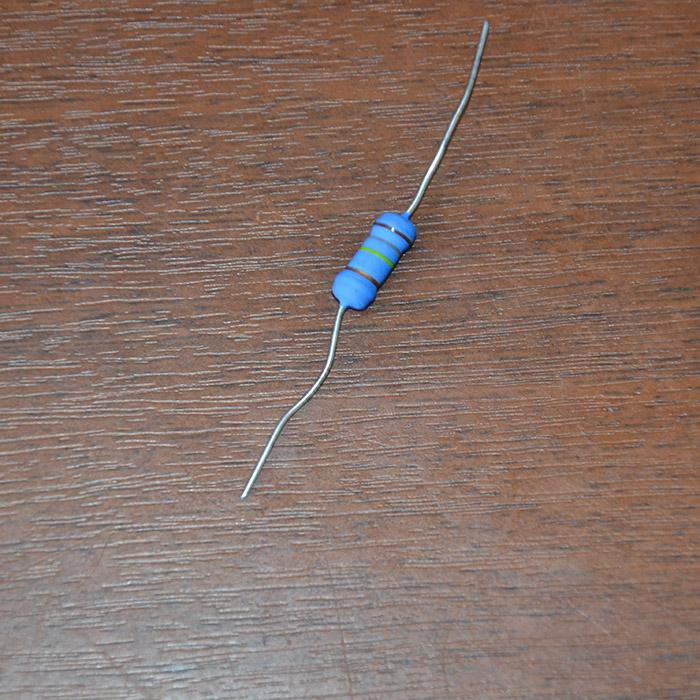resistor: (331, 211, 415, 310)
